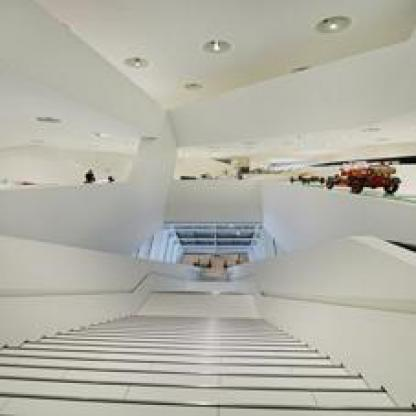stair_down: (33, 268, 363, 405)
